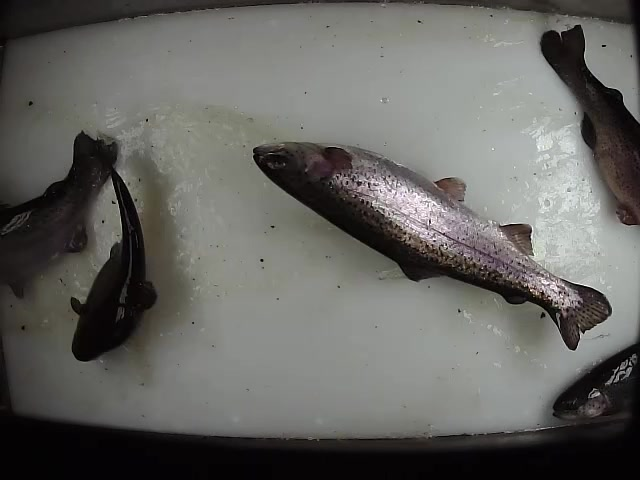fish: (250, 140, 613, 354), (538, 23, 640, 228), (1, 131, 121, 304), (70, 162, 157, 364), (548, 343, 640, 423)
